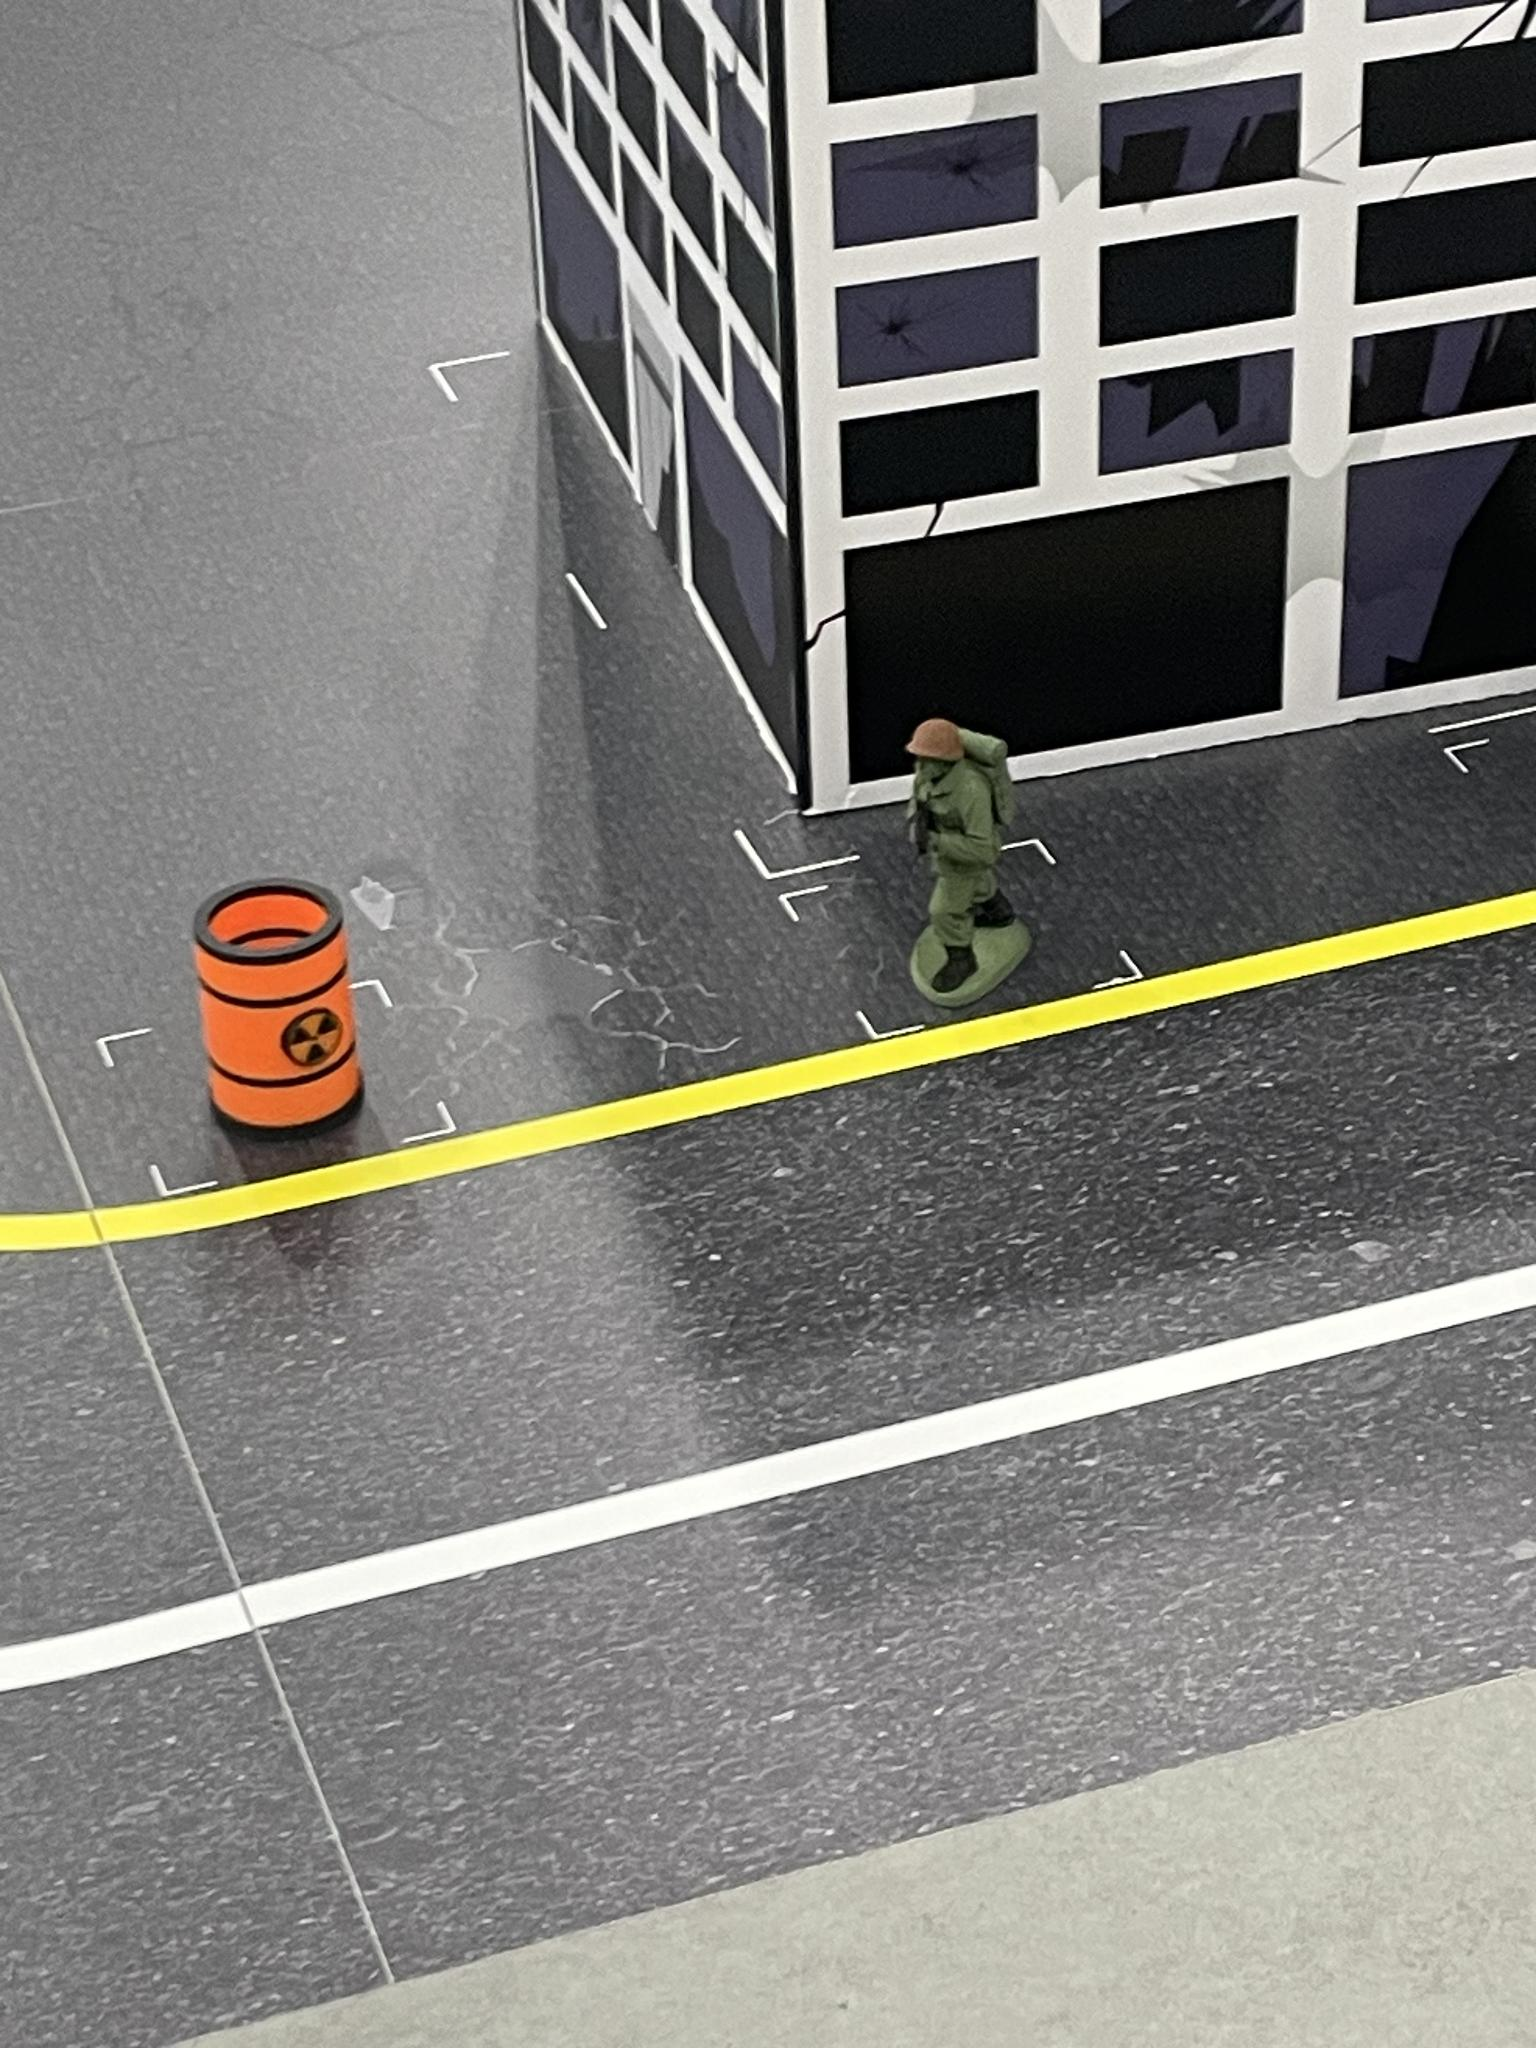Enemy: (899, 711, 1031, 1016)
Hazmat: (198, 871, 361, 1148)
